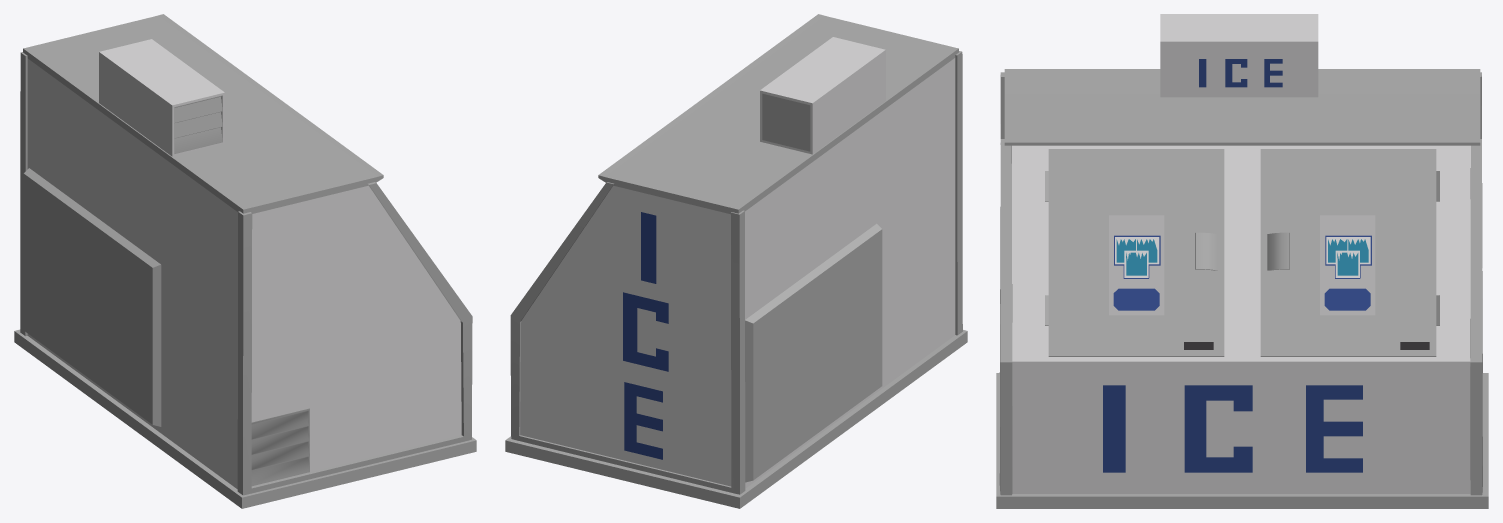
Rendered from SM_ice_machine.gltf.
The picture shows the model from 3 angles, left to right: view 1: azimuth 30°, elevation 25°; view 2: azimuth 150°, elevation 25°; view 3: azimuth 270°, elevation 25°; orthographic projection. The views are drawn at different scales.
Visible parts, largest first — view 1: SM_ice_machine; view 2: SM_ice_machine; view 3: SM_ice_machine.
Part boxes in pixels (x1,y1,x2,y2): SM_ice_machine: [14, 14, 476, 508]; SM_ice_machine: [505, 14, 967, 508]; SM_ice_machine: [996, 14, 1488, 508].
Size of the model in its own units: 1.4 by 1.97 by 2.34.
Materials: 1 (1 with a texture image).
